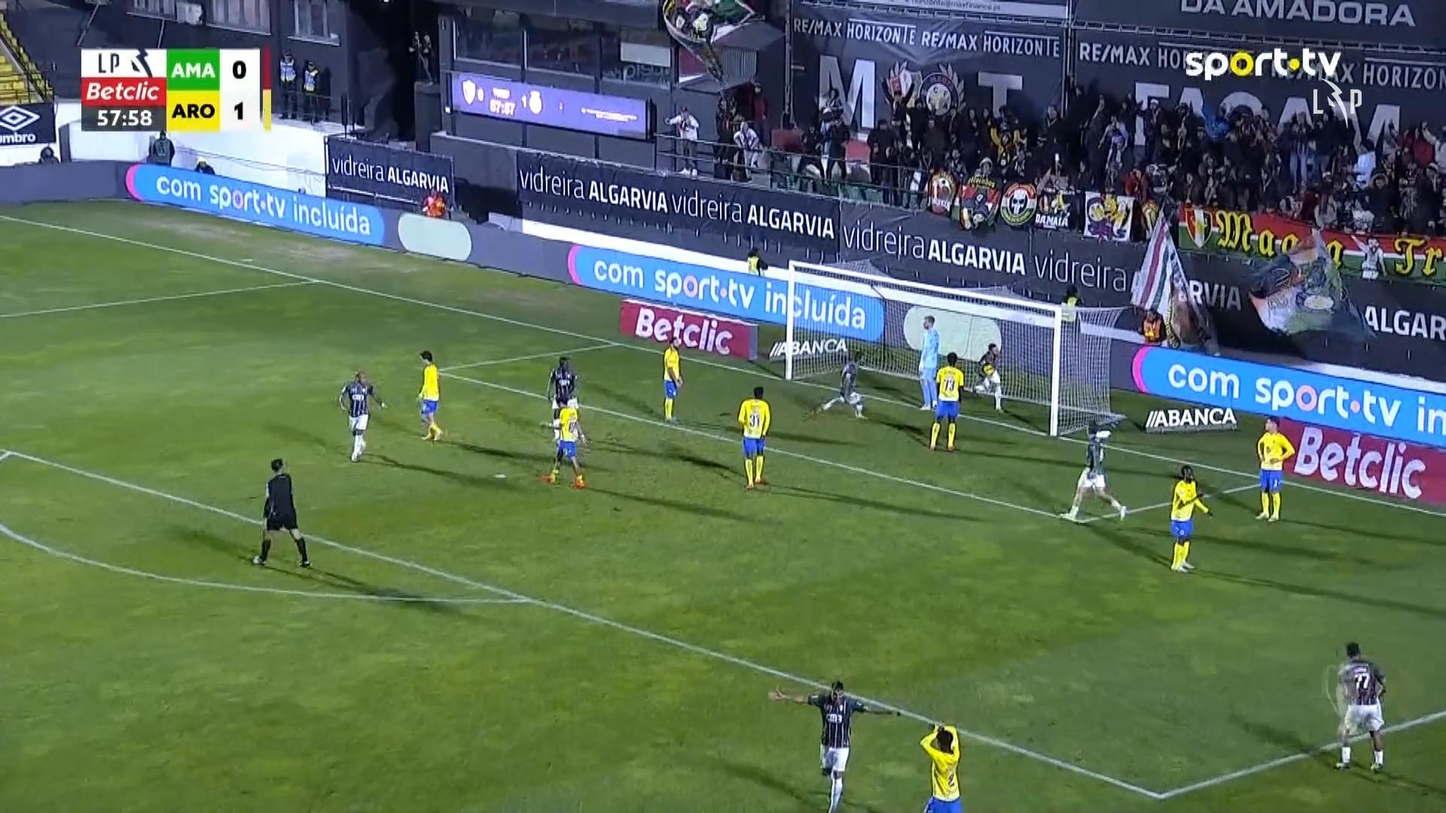ball: (983, 363, 995, 376)
goalkeeper: (917, 315, 940, 411)
player: (767, 679, 901, 811), (1332, 640, 1387, 772), (1058, 417, 1127, 522), (1168, 464, 1213, 572), (337, 370, 386, 462), (1253, 415, 1295, 522), (541, 396, 588, 489), (809, 350, 868, 420), (919, 721, 962, 811), (928, 351, 964, 451), (737, 385, 771, 490), (415, 349, 442, 442), (972, 341, 1005, 413), (547, 355, 577, 427), (661, 336, 684, 423), (277, 49, 298, 119), (300, 59, 321, 121)
referee: (251, 457, 312, 568)
